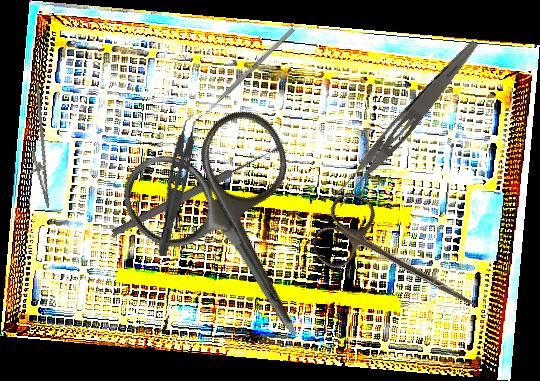Dressing Forceps: (326, 32, 483, 212)
Iris Scissors: (109, 98, 368, 378), (306, 186, 495, 336)
Needle Holder: (10, 82, 66, 211)
Pusher: (196, 26, 296, 123)
Surgical Spoon: (110, 142, 285, 239)
Tissue Forceps: (154, 111, 205, 260)
